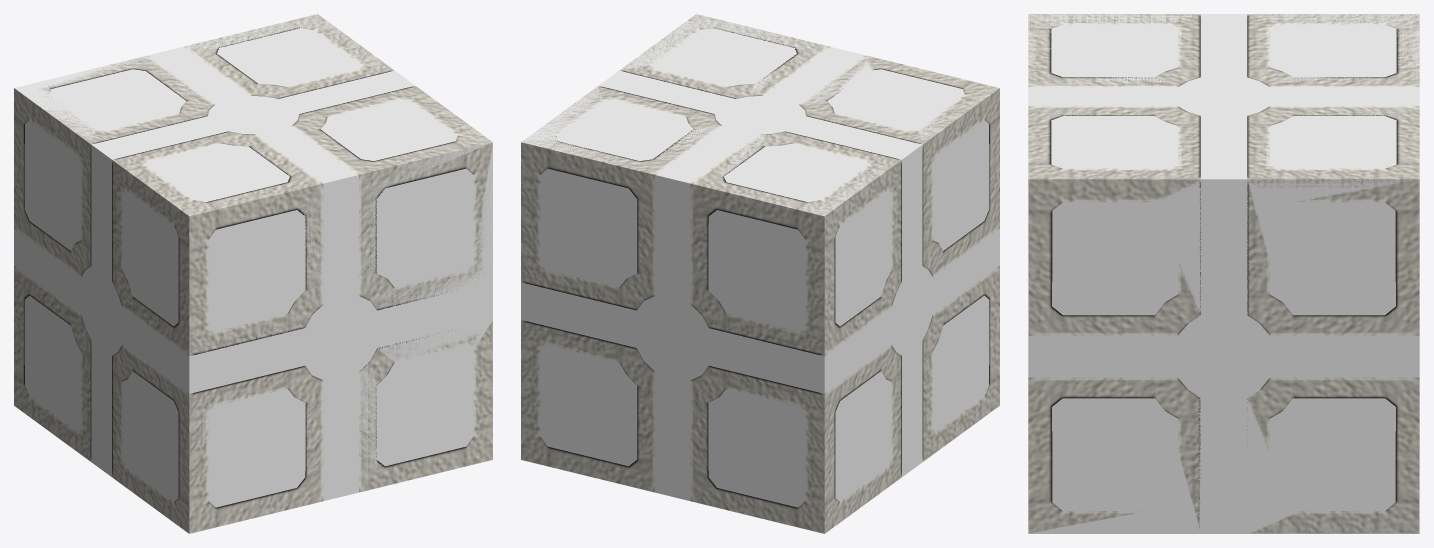
The model's file is block.fbx.
The picture shows the model from 3 angles, left to right: view 1: azimuth 30°, elevation 25°; view 2: azimuth 150°, elevation 25°; view 3: azimuth 270°, elevation 25°; orthographic projection. The views are drawn at different scales.
Parts seen in each view (by area): view 1: blockaura, blockdetailbase; view 2: blockaura, blockdetailbase; view 3: blockaura, blockdetailbase.
Part boxes in pixels (left/top/right/bottom): blockaura: left=14, top=14, right=492, bottom=508; blockdetailbase: left=14, top=14, right=492, bottom=533; blockaura: left=521, top=14, right=999, bottom=507; blockdetailbase: left=521, top=14, right=999, bottom=533; blockaura: left=1028, top=14, right=1419, bottom=533; blockdetailbase: left=1028, top=14, right=1419, bottom=533.
Size of the model in its own units: 13.74 by 13.74 by 13.74.
Materials: 6 (6 with a texture image).
